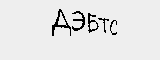Б: (86, 13, 101, 34)
Д: (47, 7, 74, 37)
С: (109, 17, 119, 37)
Т: (99, 17, 110, 34)
Э: (70, 8, 86, 32)
